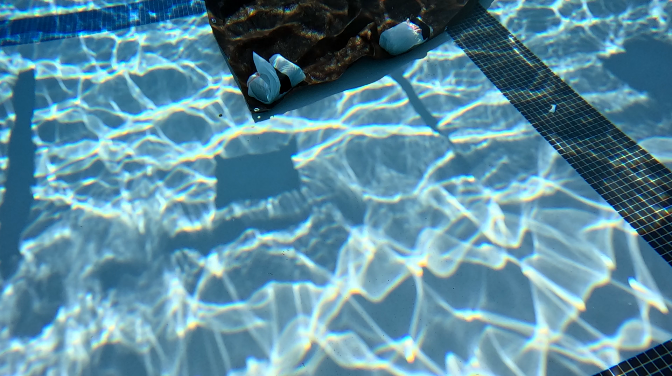sandbag: (204, 0, 468, 115)
